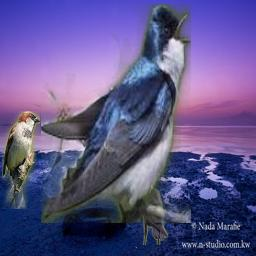Crow: (134, 171, 168, 245)
Sparrow: (2, 111, 40, 209)
Swallow: (41, 4, 191, 223)
